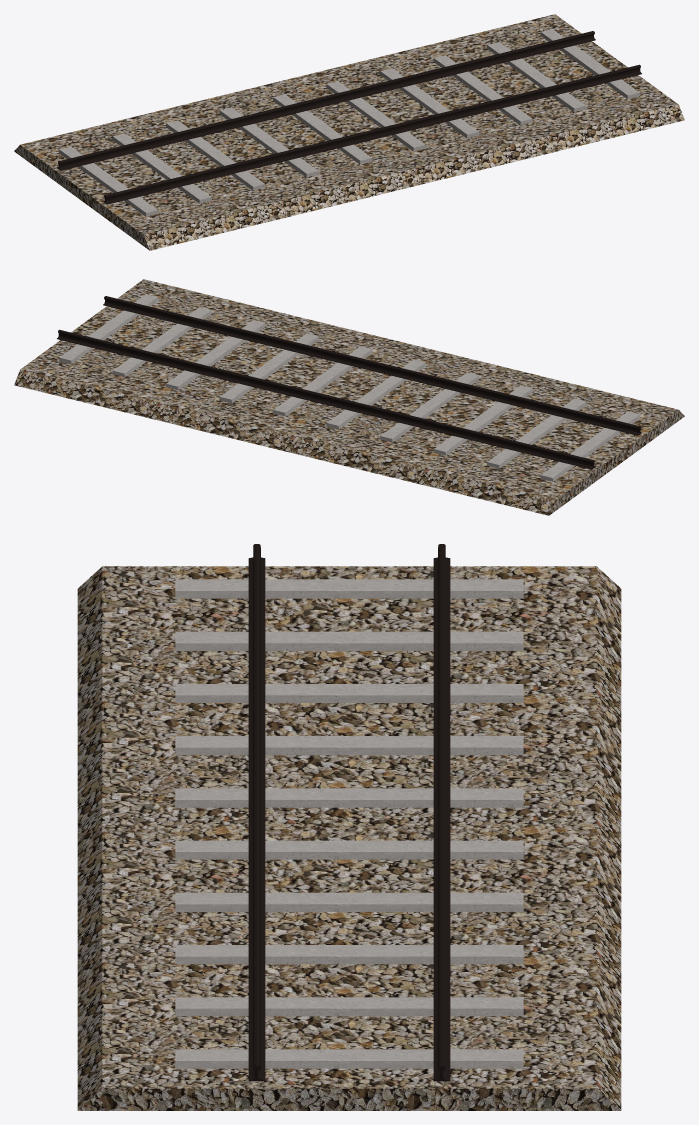
The model's file is voiesFerreesDroit10m.obj.
3 renders of one model, top to bottom at view 1: azimuth 30°, elevation 25°; view 2: azimuth 150°, elevation 25°; view 3: azimuth 270°, elevation 25°, orthographic. The views are drawn at different scales.
Visible parts, largest first — view 1: ballastDroit_Plane, traverse_Cube, droit_BezierCurve; view 2: ballastDroit_Plane, traverse_Cube, droit_BezierCurve; view 3: ballastDroit_Plane, traverse_Cube, droit_BezierCurve.
Part boxes in pixels (x1,y1,x2,y2): ballastDroit_Plane: (14,14,684,250); traverse_Cube: (59,29,639,216); droit_BezierCurve: (56,31,641,204); ballastDroit_Plane: (14,279,684,515); traverse_Cube: (59,294,639,481); droit_BezierCurve: (57,296,642,469); ballastDroit_Plane: (77,566,621,1110); traverse_Cube: (175,579,523,1068); droit_BezierCurve: (248,544,450,1081).
Bounding box in the file's own units: 1000 × 39.86 × 440.
